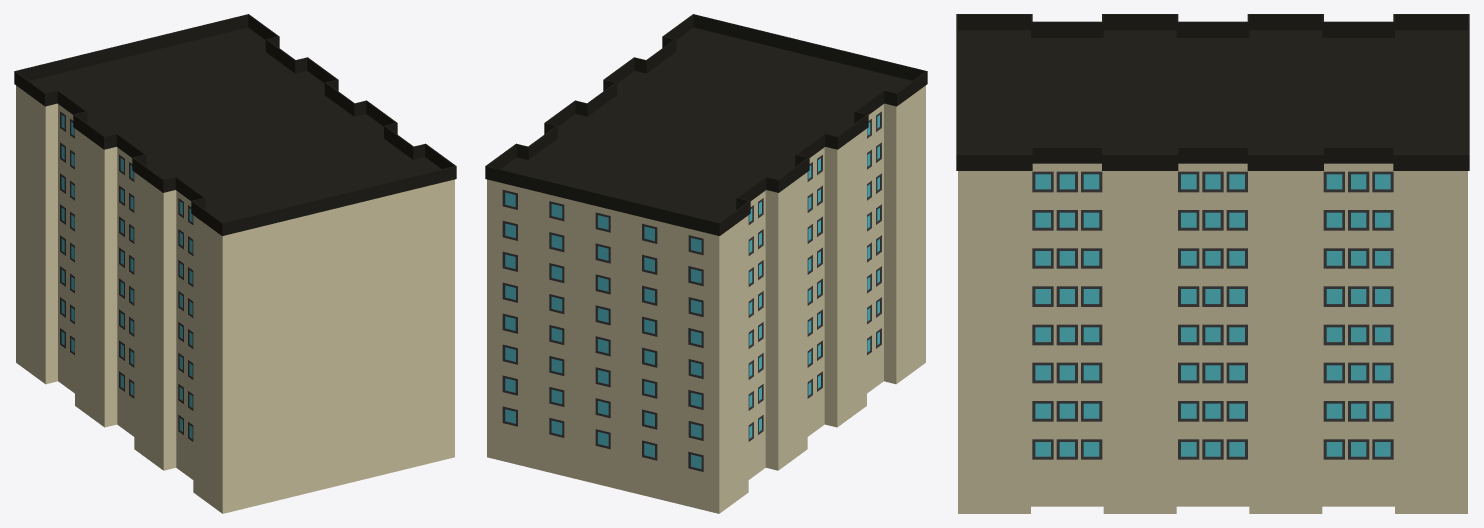
The model's file is random res build 14.fbx.
3 views of the same model, side by side, from view 1: azimuth 30°, elevation 25°; view 2: azimuth 150°, elevation 25°; view 3: azimuth 270°, elevation 25° (orthographic). The views are drawn at different scales.
Parts seen in each view (by area): view 1: building_014; view 2: building_014; view 3: building_014.
Part boxes in pixels (left/top/right/bottom): building_014: left=14, top=14, right=456, bottom=513; building_014: left=485, top=14, right=927, bottom=513; building_014: left=956, top=14, right=1469, bottom=513.
Size of the model in its own units: 13071 by 15512 by 20076.
